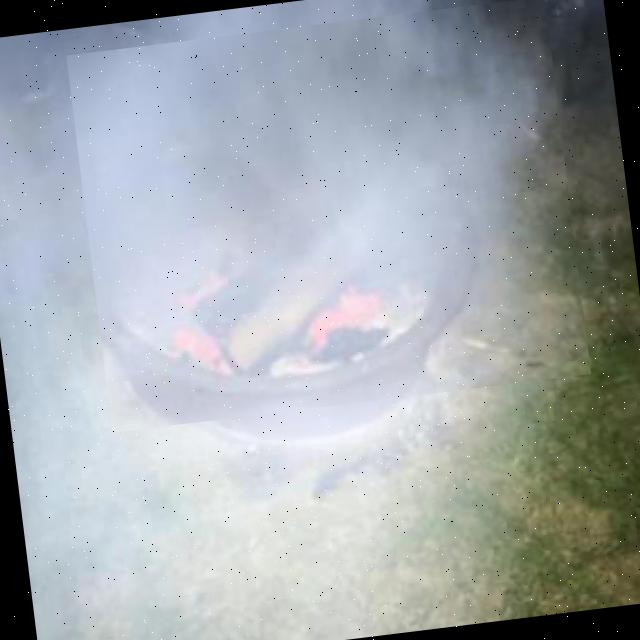fire: (65, 0, 590, 432)
